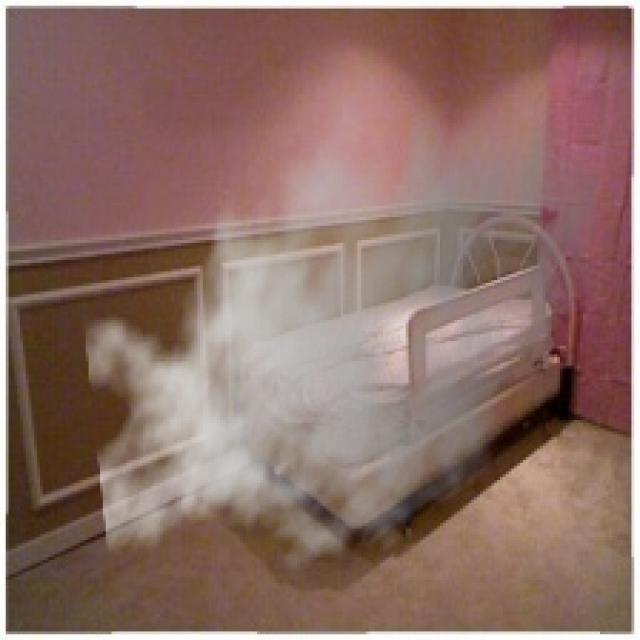Smoke: (82, 54, 608, 589)
